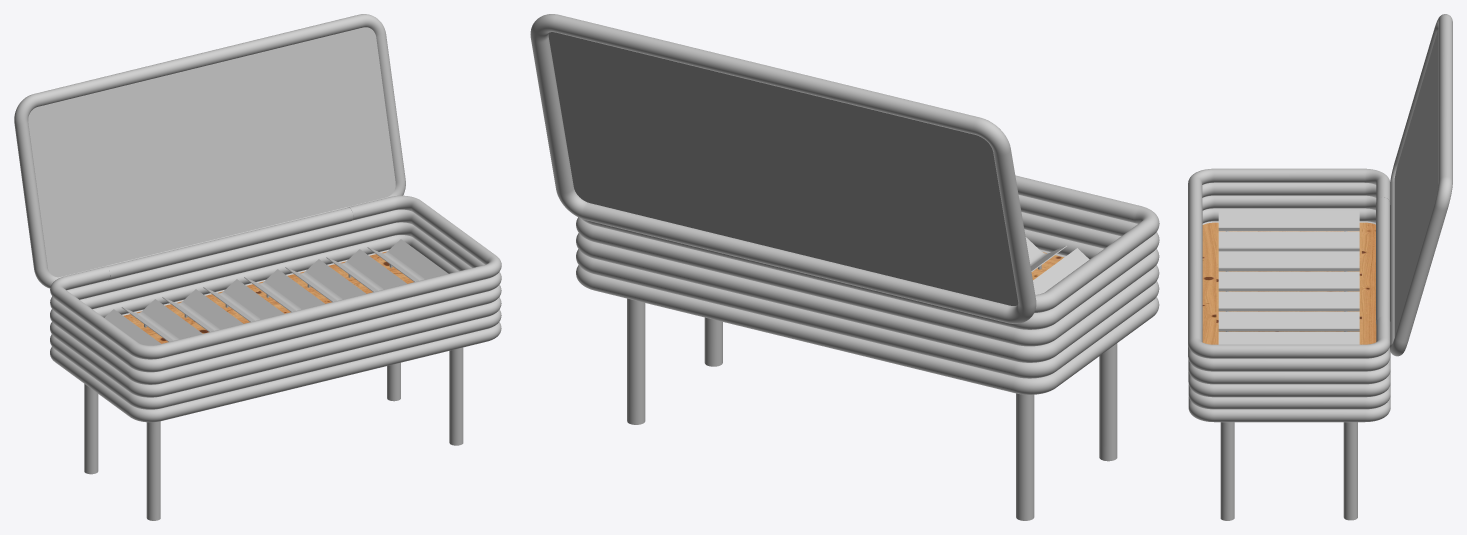
The model's file is brushed-stainless-steel.glb.
The picture shows the model from 3 angles, left to right: view 1: azimuth 30°, elevation 25°; view 2: azimuth 150°, elevation 25°; view 3: azimuth 270°, elevation 25°; orthographic projection. The views are drawn at different scales.
Parts seen in each view (by area): view 1: COUVERCLE, N5.3 (×2), N5.1, Booléen, N5, N5.5, N5.4, charnière N2/N1, double fond, Cylindre.5, Extrusion.1, Extrusion.7 (+8 smaller); view 2: COUVERCLE, N5.3 (×2), N5, N5.5, N5.4, N5.1, Booléen, Cylindre.4, Cylindre.6, Cylindre.5, Extrusion, Cylindre.7; view 3: N5.3 (×2), Booléen, COUVERCLE, N5.1, double fond, N5, Extrusion.5, Extrusion.2, Extrusion.1, Extrusion.4, Extrusion.3, Extrusion (+6 smaller).
Boxes of the visible parts, x1,y1,x2,y2 form: COUVERCLE: [28, 27, 395, 277]; N5.3 (×2): [14, 14, 501, 384]; N5.1: [50, 209, 501, 372]; Booléen: [50, 195, 501, 359]; N5: [50, 235, 501, 397]; N5.5: [50, 322, 501, 422]; N5.4: [50, 249, 501, 409]; charnière N2/N1: [106, 207, 353, 280]; double fond: [123, 251, 413, 343]; Cylindre.5: [146, 421, 160, 520]; Extrusion.1: [121, 299, 202, 341]; Extrusion.7: [367, 239, 448, 281]; COUVERCLE: [548, 32, 1018, 305]; N5.3 (×2): [530, 14, 1159, 346]; N5: [576, 229, 1159, 362]; N5.5: [576, 265, 1159, 394]; N5.4: [576, 249, 1159, 378]; N5.1: [582, 195, 1159, 329]; Booléen: [1015, 175, 1159, 313]; Cylindre.4: [1016, 393, 1034, 520]; Cylindre.6: [627, 298, 645, 424]; Cylindre.5: [1099, 343, 1117, 461]; Extrusion: [1033, 248, 1089, 294]; Cylindre.7: [704, 317, 722, 366]; N5.3 (×2): [1188, 14, 1452, 384]; Booléen: [1188, 168, 1390, 358]; COUVERCLE: [1394, 29, 1438, 336]; N5.1: [1188, 182, 1390, 371]; double fond: [1202, 222, 1376, 344]; N5: [1188, 208, 1390, 397]; Extrusion.5: [1218, 311, 1359, 331]; Extrusion.2: [1218, 251, 1359, 271]; Extrusion.1: [1218, 231, 1359, 251]; Extrusion.4: [1218, 291, 1359, 311]; Extrusion.3: [1218, 271, 1359, 291]; Extrusion: [1218, 211, 1359, 230].
Size of the model in its own units: 0.9155 by 0.8159 by 0.563.
Materials: 2 (1 with a texture image).
